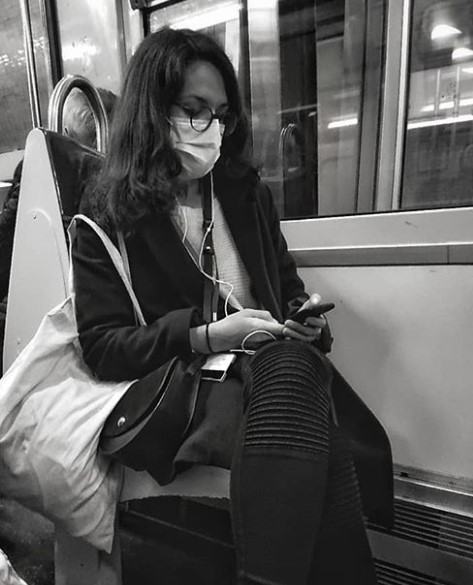face_with_mask: (134, 32, 245, 183)
